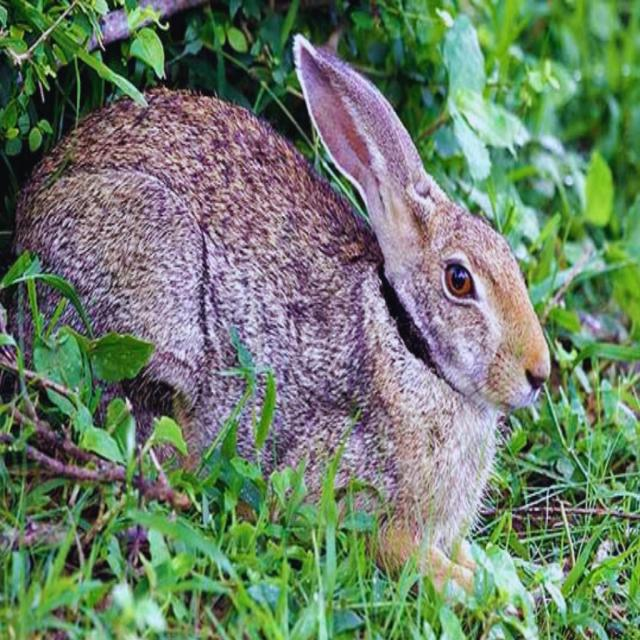Hare: (12, 23, 558, 598)
